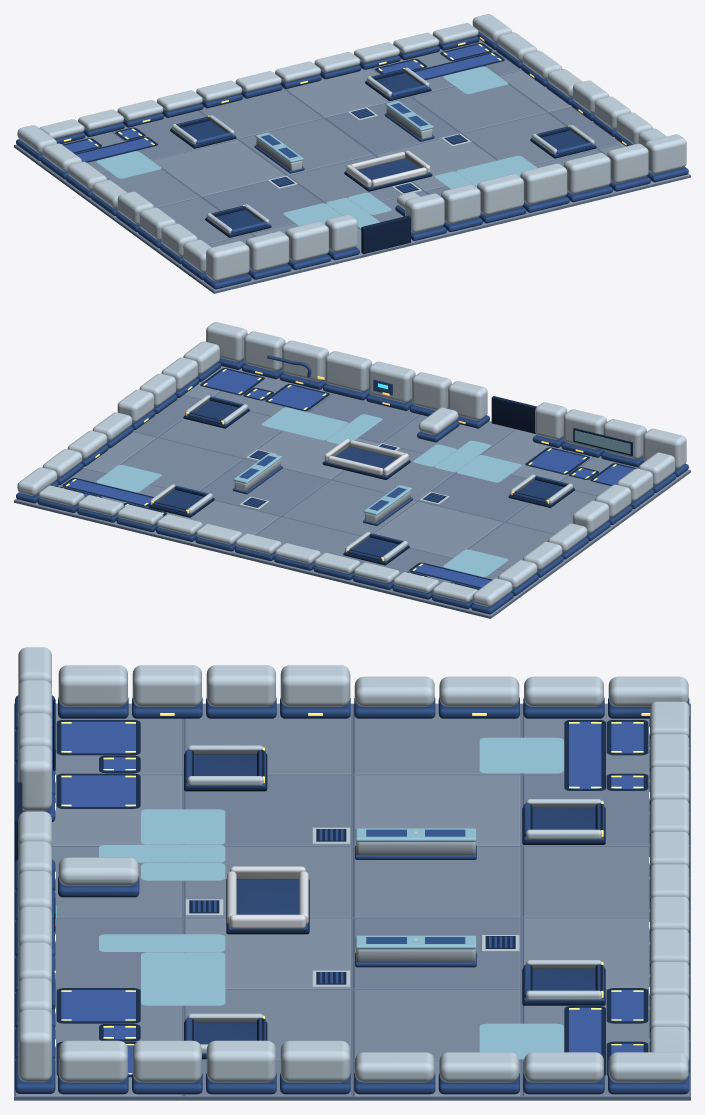
The model's file is CryoSoftRoomProps_cryo-a.fbx.
3 renders of one model, top to bottom at view 1: azimuth 30°, elevation 25°; view 2: azimuth 150°, elevation 25°; view 3: azimuth 270°, elevation 25°, orthographic. The views are drawn at different scales.
Parts seen in each view (by area): view 1: SC_wall_Soft_Ivory, SC_floor_Soft_Floor, SC_floor_Soft_FloorLight, SC_wall_Soft_Blue, SC_floor_Soft_FloorShade, SC_marking_Soft_Ice, SC_obstacle_Soft_Blue, SC_floor_Soft_Seam, SC_marking_Soft_Dock, SC_marking_Soft_Navy, SC_obstacle_Soft_Ivory, SC_wall_Soft_Navy (+7 smaller); view 2: SC_wall_Soft_Ivory, SC_floor_Soft_Floor, SC_floor_Soft_FloorLight, SC_floor_Soft_FloorShade, SC_wall_Soft_Blue, SC_marking_Soft_Ice, SC_marking_Soft_Dock, SC_obstacle_Soft_Blue, SC_floor_Soft_Seam, SC_marking_Soft_Navy, SC_wall_Soft_Navy, SC_obstacle_Soft_Ivory (+6 smaller); view 3: SC_wall_Soft_Ivory, SC_floor_Soft_Floor, SC_floor_Soft_FloorLight, SC_floor_Soft_FloorShade, SC_wall_Soft_Blue, SC_marking_Soft_Ice, SC_marking_Soft_Dock, SC_obstacle_Soft_Blue, SC_floor_Soft_Seam, SC_marking_Soft_Navy, SC_obstacle_Soft_Ivory, SC_rail_Soft_Ivory (+7 smaller).
Boxes of the visible parts, left/top/right/bottom form: SC_wall_Soft_Ivory: left=17, top=14, right=686, bottom=281; SC_floor_Soft_Floor: left=15, top=47, right=646, bottom=290; SC_floor_Soft_FloorLight: left=152, top=68, right=689, bottom=269; SC_wall_Soft_Blue: left=16, top=31, right=688, bottom=289; SC_floor_Soft_FloorShade: left=112, top=39, right=620, bottom=233; SC_marking_Soft_Ice: left=96, top=66, right=536, bottom=228; SC_obstacle_Soft_Blue: left=171, top=69, right=595, bottom=235; SC_floor_Soft_Seam: left=14, top=47, right=690, bottom=293; SC_marking_Soft_Dock: left=64, top=44, right=500, bottom=161; SC_marking_Soft_Navy: left=62, top=43, right=504, bottom=193; SC_obstacle_Soft_Ivory: left=172, top=67, right=594, bottom=233; SC_wall_Soft_Navy: left=361, top=215, right=410, bottom=254; SC_wall_Soft_Ivory: left=17, top=322, right=686, bottom=606; SC_floor_Soft_Floor: left=58, top=372, right=689, bottom=616; SC_floor_Soft_FloorLight: left=83, top=366, right=592, bottom=558; SC_floor_Soft_FloorShade: left=15, top=393, right=529, bottom=594; SC_wall_Soft_Blue: left=16, top=355, right=688, bottom=614; SC_marking_Soft_Ice: left=96, top=407, right=521, bottom=576; SC_marking_Soft_Dock: left=66, top=369, right=634, bottom=589; SC_obstacle_Soft_Blue: left=149, top=396, right=573, bottom=562; SC_floor_Soft_Seam: left=14, top=372, right=690, bottom=618; SC_marking_Soft_Navy: left=60, top=368, right=637, bottom=589; SC_wall_Soft_Navy: left=491, top=396, right=632, bottom=455; SC_obstacle_Soft_Ivory: left=150, top=395, right=572, bottom=560; SC_wall_Soft_Ivory: left=18, top=647, right=689, bottom=1082; SC_floor_Soft_Floor: left=52, top=703, right=689, bottom=1060; SC_floor_Soft_FloorLight: left=15, top=775, right=649, bottom=1096; SC_floor_Soft_FloorShade: left=55, top=775, right=689, bottom=1096; SC_wall_Soft_Blue: left=15, top=695, right=689, bottom=1094; SC_marking_Soft_Ice: left=99, top=737, right=563, bottom=1059; SC_marking_Soft_Dock: left=61, top=721, right=643, bottom=1074; SC_obstacle_Soft_Blue: left=185, top=749, right=604, bottom=1055; SC_floor_Soft_Seam: left=14, top=703, right=690, bottom=1100; SC_marking_Soft_Navy: left=56, top=720, right=648, bottom=1077; SC_obstacle_Soft_Ivory: left=187, top=745, right=601, bottom=1053; SC_rail_Soft_Ivory: left=356, top=831, right=475, bottom=962.
Size of the model in its own units: 4400 by 334 by 3200.
